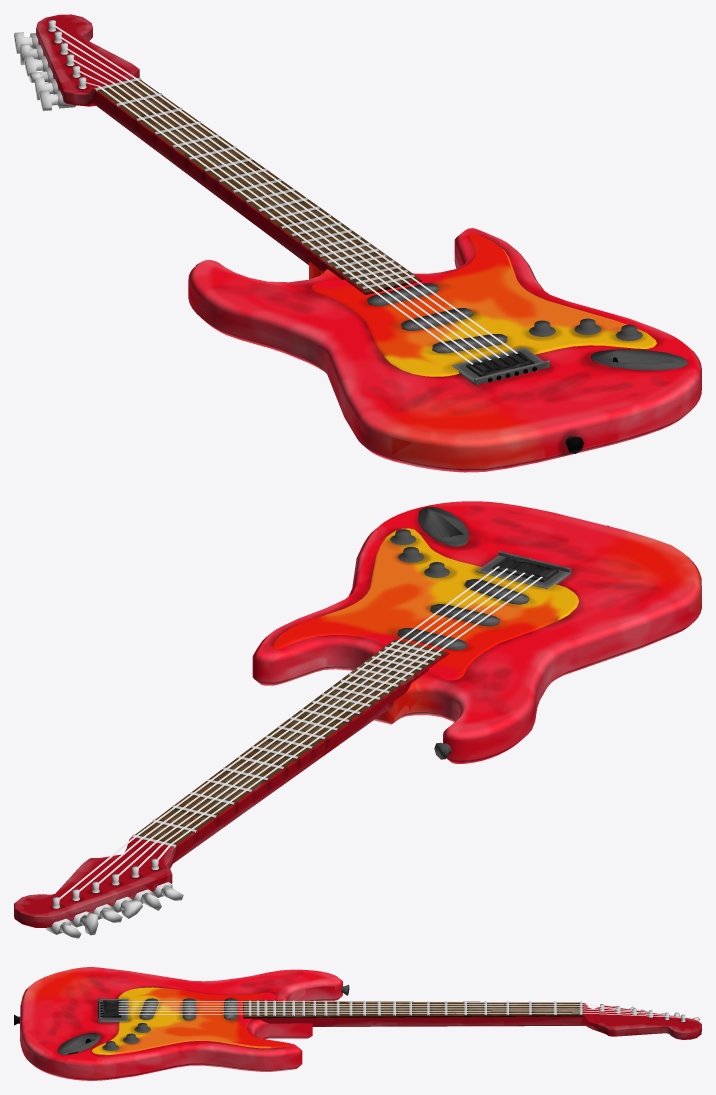
File: guitarforgltf.gltf
3 renders of one model, top to bottom at view 1: azimuth 30°, elevation 25°; view 2: azimuth 150°, elevation 25°; view 3: azimuth 270°, elevation 25°, orthographic. The views are drawn at different scales.
Visible parts, largest first — view 1: Clips_LP; view 2: Clips_LP; view 3: Clips_LP.
Boxes of the visible parts, x1,y1,x2,y2 form: Clips_LP: [14, 14, 701, 472]; Clips_LP: [14, 501, 701, 938]; Clips_LP: [14, 967, 701, 1080].
Size of the model in its own units: 6.93 by 0.9005 by 20.75.
Materials: 1 (1 with a texture image).
